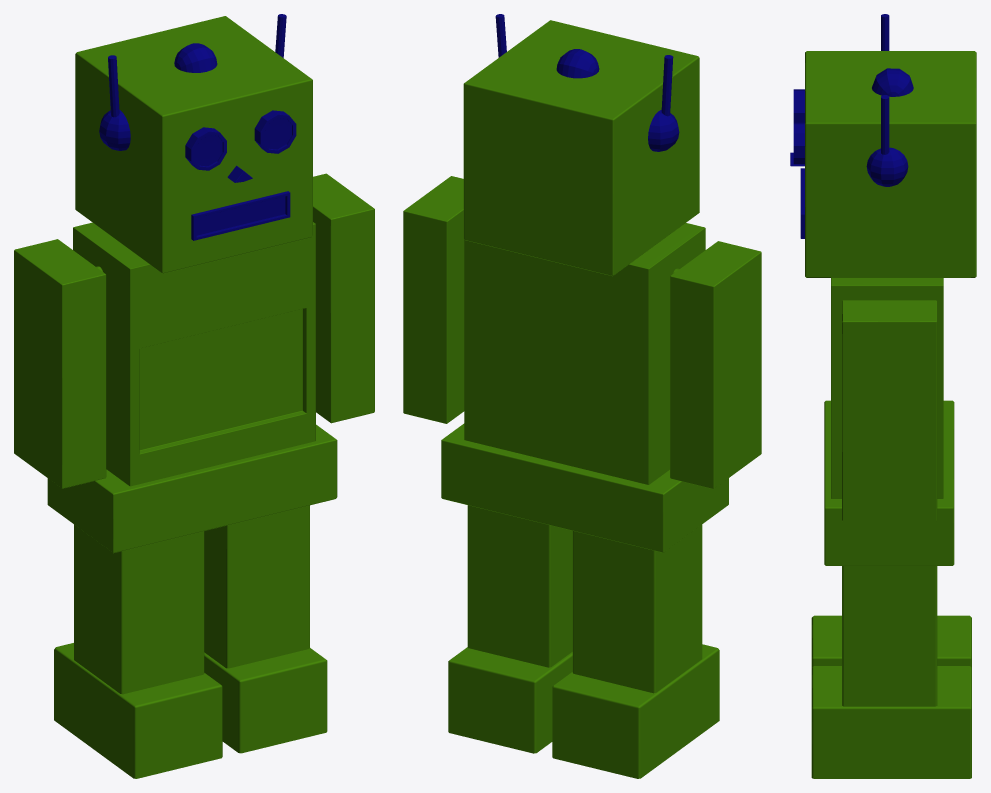
The model's file is Robot.fbx.
3 views of the same model, side by side, from view 1: azimuth 30°, elevation 25°; view 2: azimuth 150°, elevation 25°; view 3: azimuth 270°, elevation 25° (orthographic).
Visible parts, largest first — view 1: pCube75 (×2); view 2: pCube75 (×2); view 3: pCube75 (×2).
Boxes of the visible parts, x1,y1,x2,y2 form: pCube75 (×2): [14, 14, 374, 778]; pCube75 (×2): [403, 14, 761, 778]; pCube75 (×2): [790, 14, 976, 778].
Bounding box in the file's own units: 43.45 × 91.59 × 22.82.
